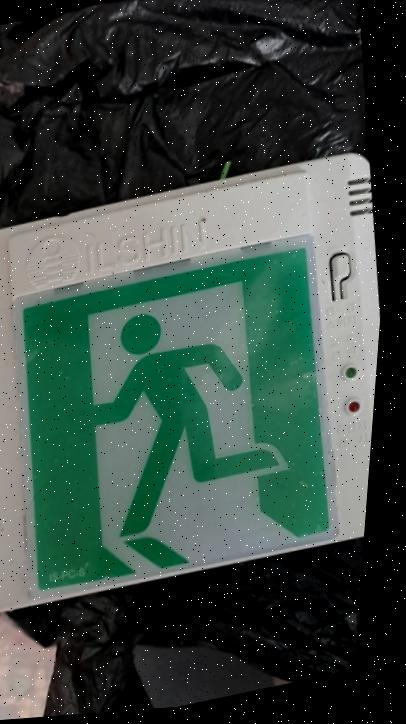emergency_exit: (1, 152, 381, 613)
